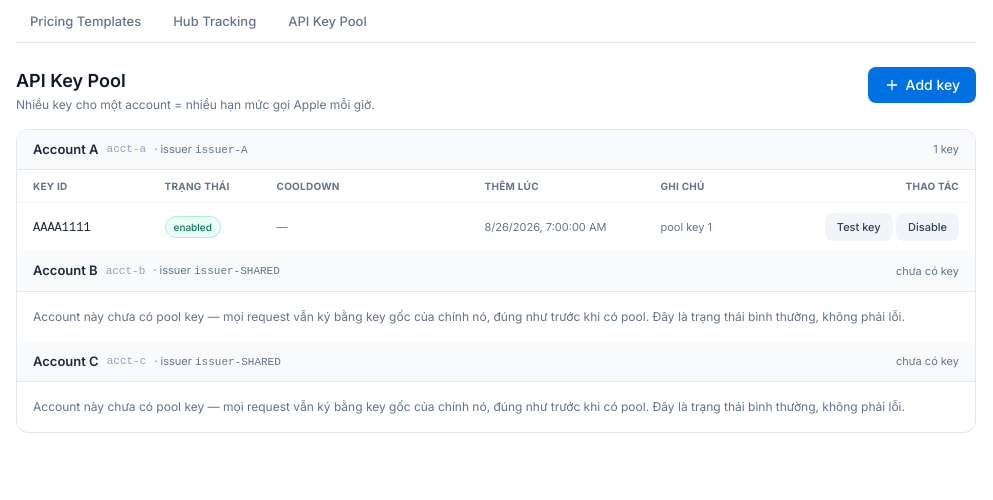
Test case: API errors are shown, not swallowed › a toggle failure is reported
Expected: the row with test id "key-row-AAAA1111" is shown, [17,202,975,251]
Click the button with test id "toggle-AAAA1111" at (928, 227), box [896,213,959,241]
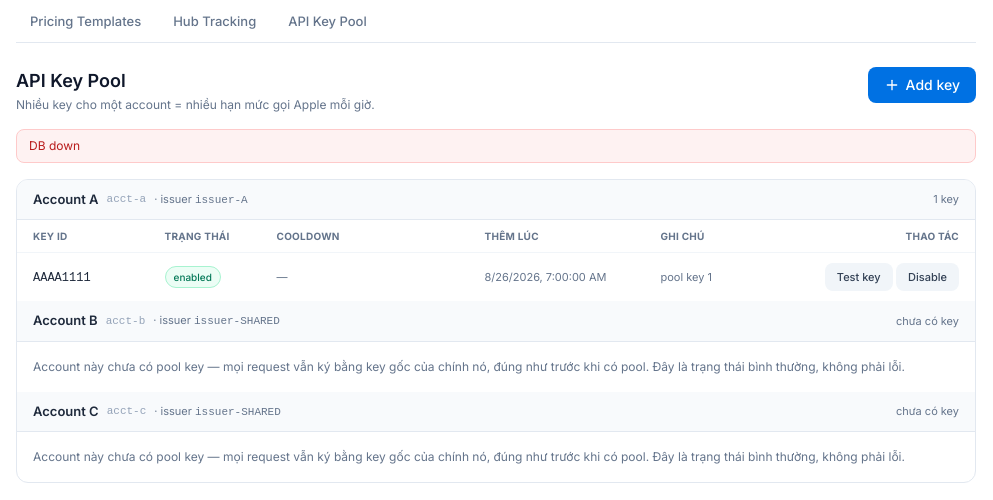
Expected: the text with test id "row-error" reads "DB down", [29,138,80,152]
